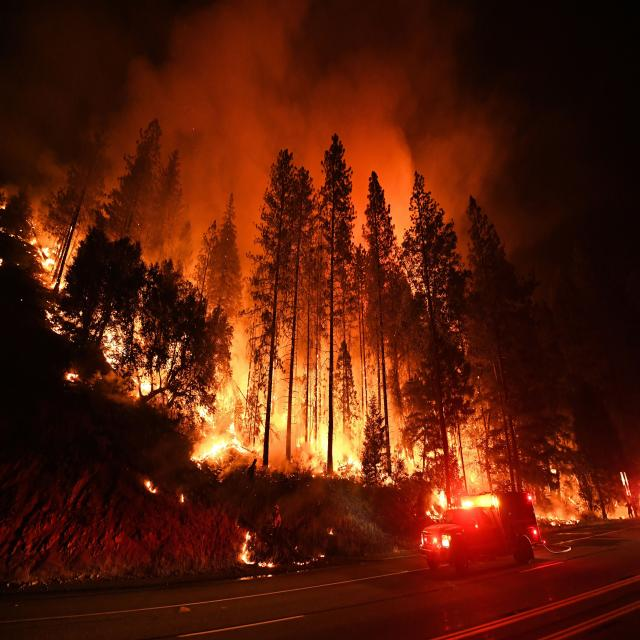Smoke: (43, 18, 640, 370), (17, 221, 628, 533)
